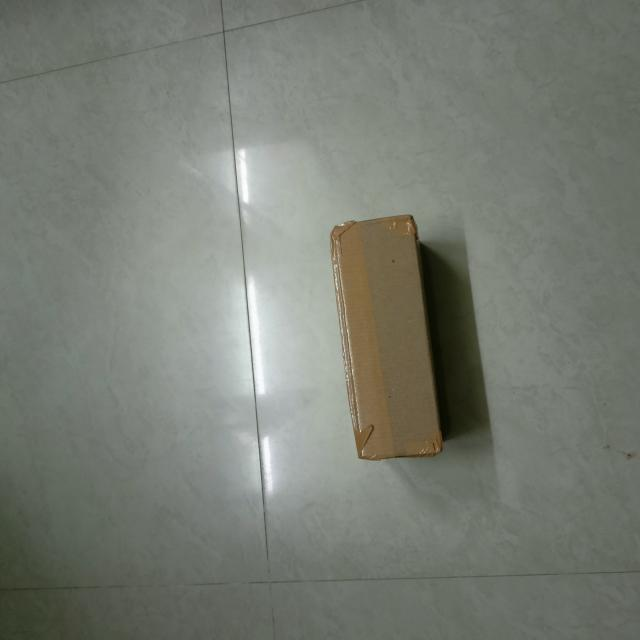box: (337, 216, 442, 463)
